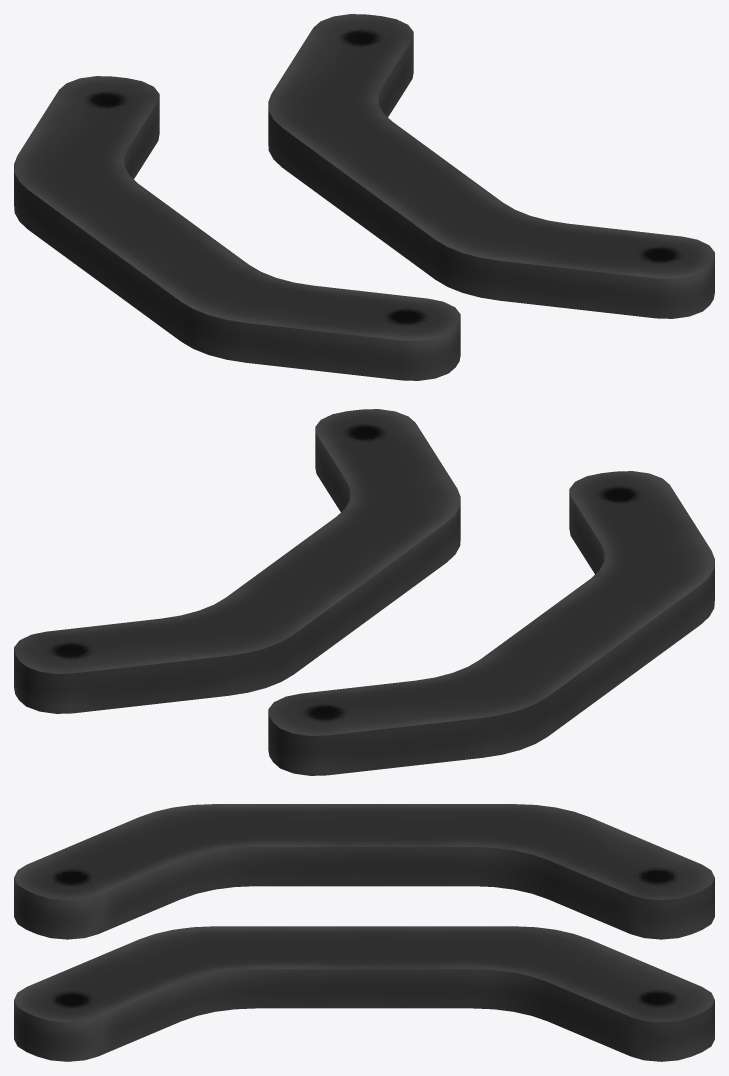
Rendered from ammomaker_ReloadingPressLinkage.fbx.
3 renders of one model, top to bottom at view 1: azimuth 30°, elevation 25°; view 2: azimuth 150°, elevation 25°; view 3: azimuth 270°, elevation 25°, orthographic.
Visible parts, largest first — view 1: ammomaker_ReloadingPressLinkage; view 2: ammomaker_ReloadingPressLinkage; view 3: ammomaker_ReloadingPressLinkage.
Boxes of the visible parts, x1,y1,x2,y2 form: ammomaker_ReloadingPressLinkage: (14,14,714,380); ammomaker_ReloadingPressLinkage: (14,409,714,775); ammomaker_ReloadingPressLinkage: (14,804,714,1061).
Bounding box in the file's own units: 3.57 × 0.3 × 4.85.
